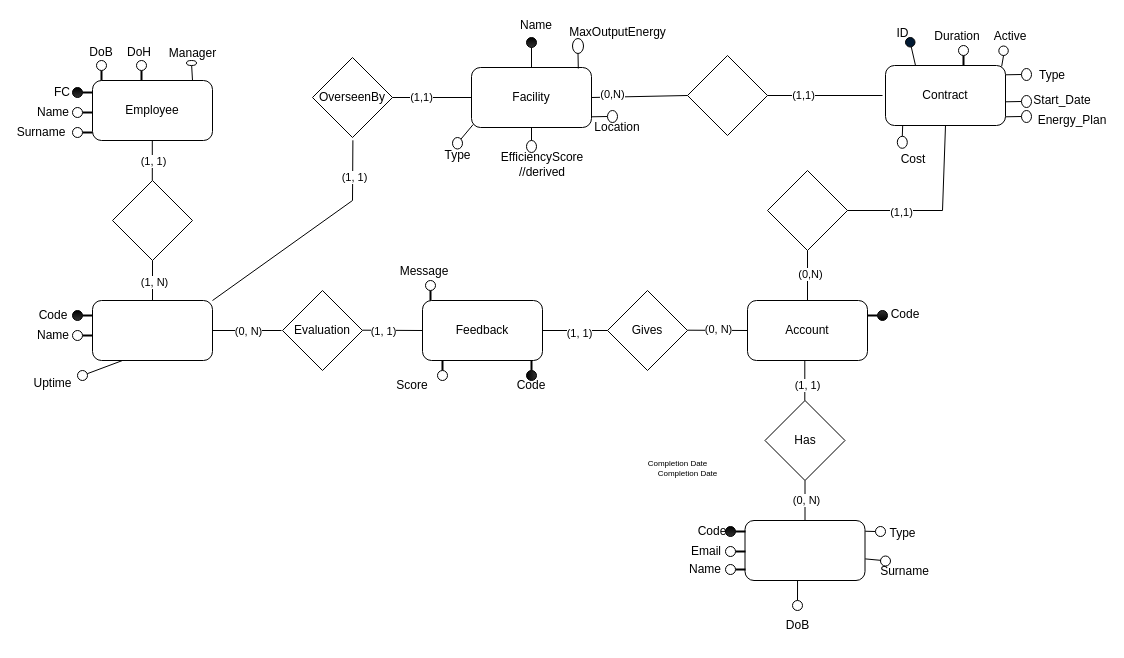
The diagram is 1124 pixels wide and 658 high, and some of its shapes have lost their labels. The shapes that lost their labels are listed below. From the top down, each one's centre as x and y in pixels, then its label:
(x=727, y=95): Provides
(x=152, y=220): Configuration
(x=807, y=210): Linked
(x=152, y=330): Team
(x=804, y=550): Customer
